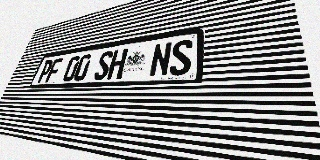0: (72, 54, 93, 81), (62, 55, 81, 82)
F: (45, 58, 63, 83)
H: (106, 48, 128, 79)
N: (149, 42, 172, 77)
P: (36, 59, 54, 83)
S: (169, 39, 193, 76), (93, 50, 114, 80)
